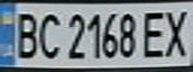1: (84, 9, 103, 60)
2: (63, 9, 87, 60)
6: (100, 9, 121, 60)
8: (115, 9, 142, 60)
B: (9, 8, 42, 61)
C: (36, 9, 63, 61)
E: (139, 7, 172, 58)
X: (160, 6, 193, 58)
